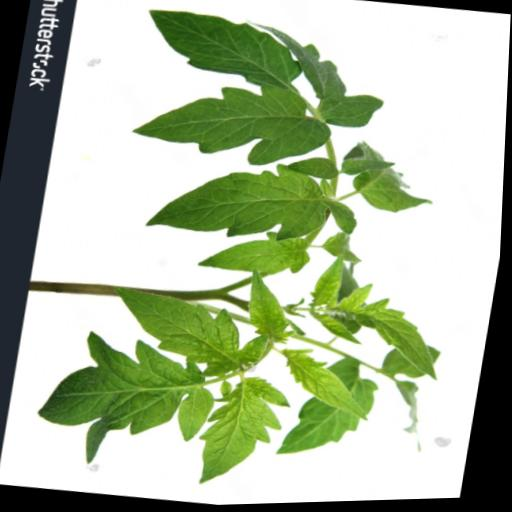Healthy: (33, 323, 229, 480), (145, 149, 367, 256), (129, 68, 340, 179), (231, 18, 397, 136), (101, 283, 279, 389), (137, 6, 311, 95), (195, 371, 299, 495), (278, 351, 386, 467), (348, 296, 453, 385), (274, 345, 382, 426), (198, 224, 316, 282), (243, 268, 310, 347), (309, 252, 348, 312), (286, 154, 340, 184), (341, 157, 398, 182)
